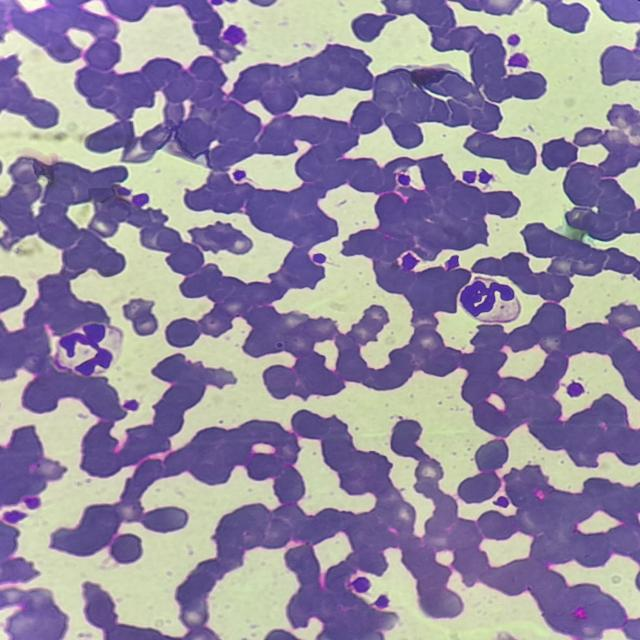Neutrofilo: (52, 319, 125, 379), (455, 275, 524, 324)
